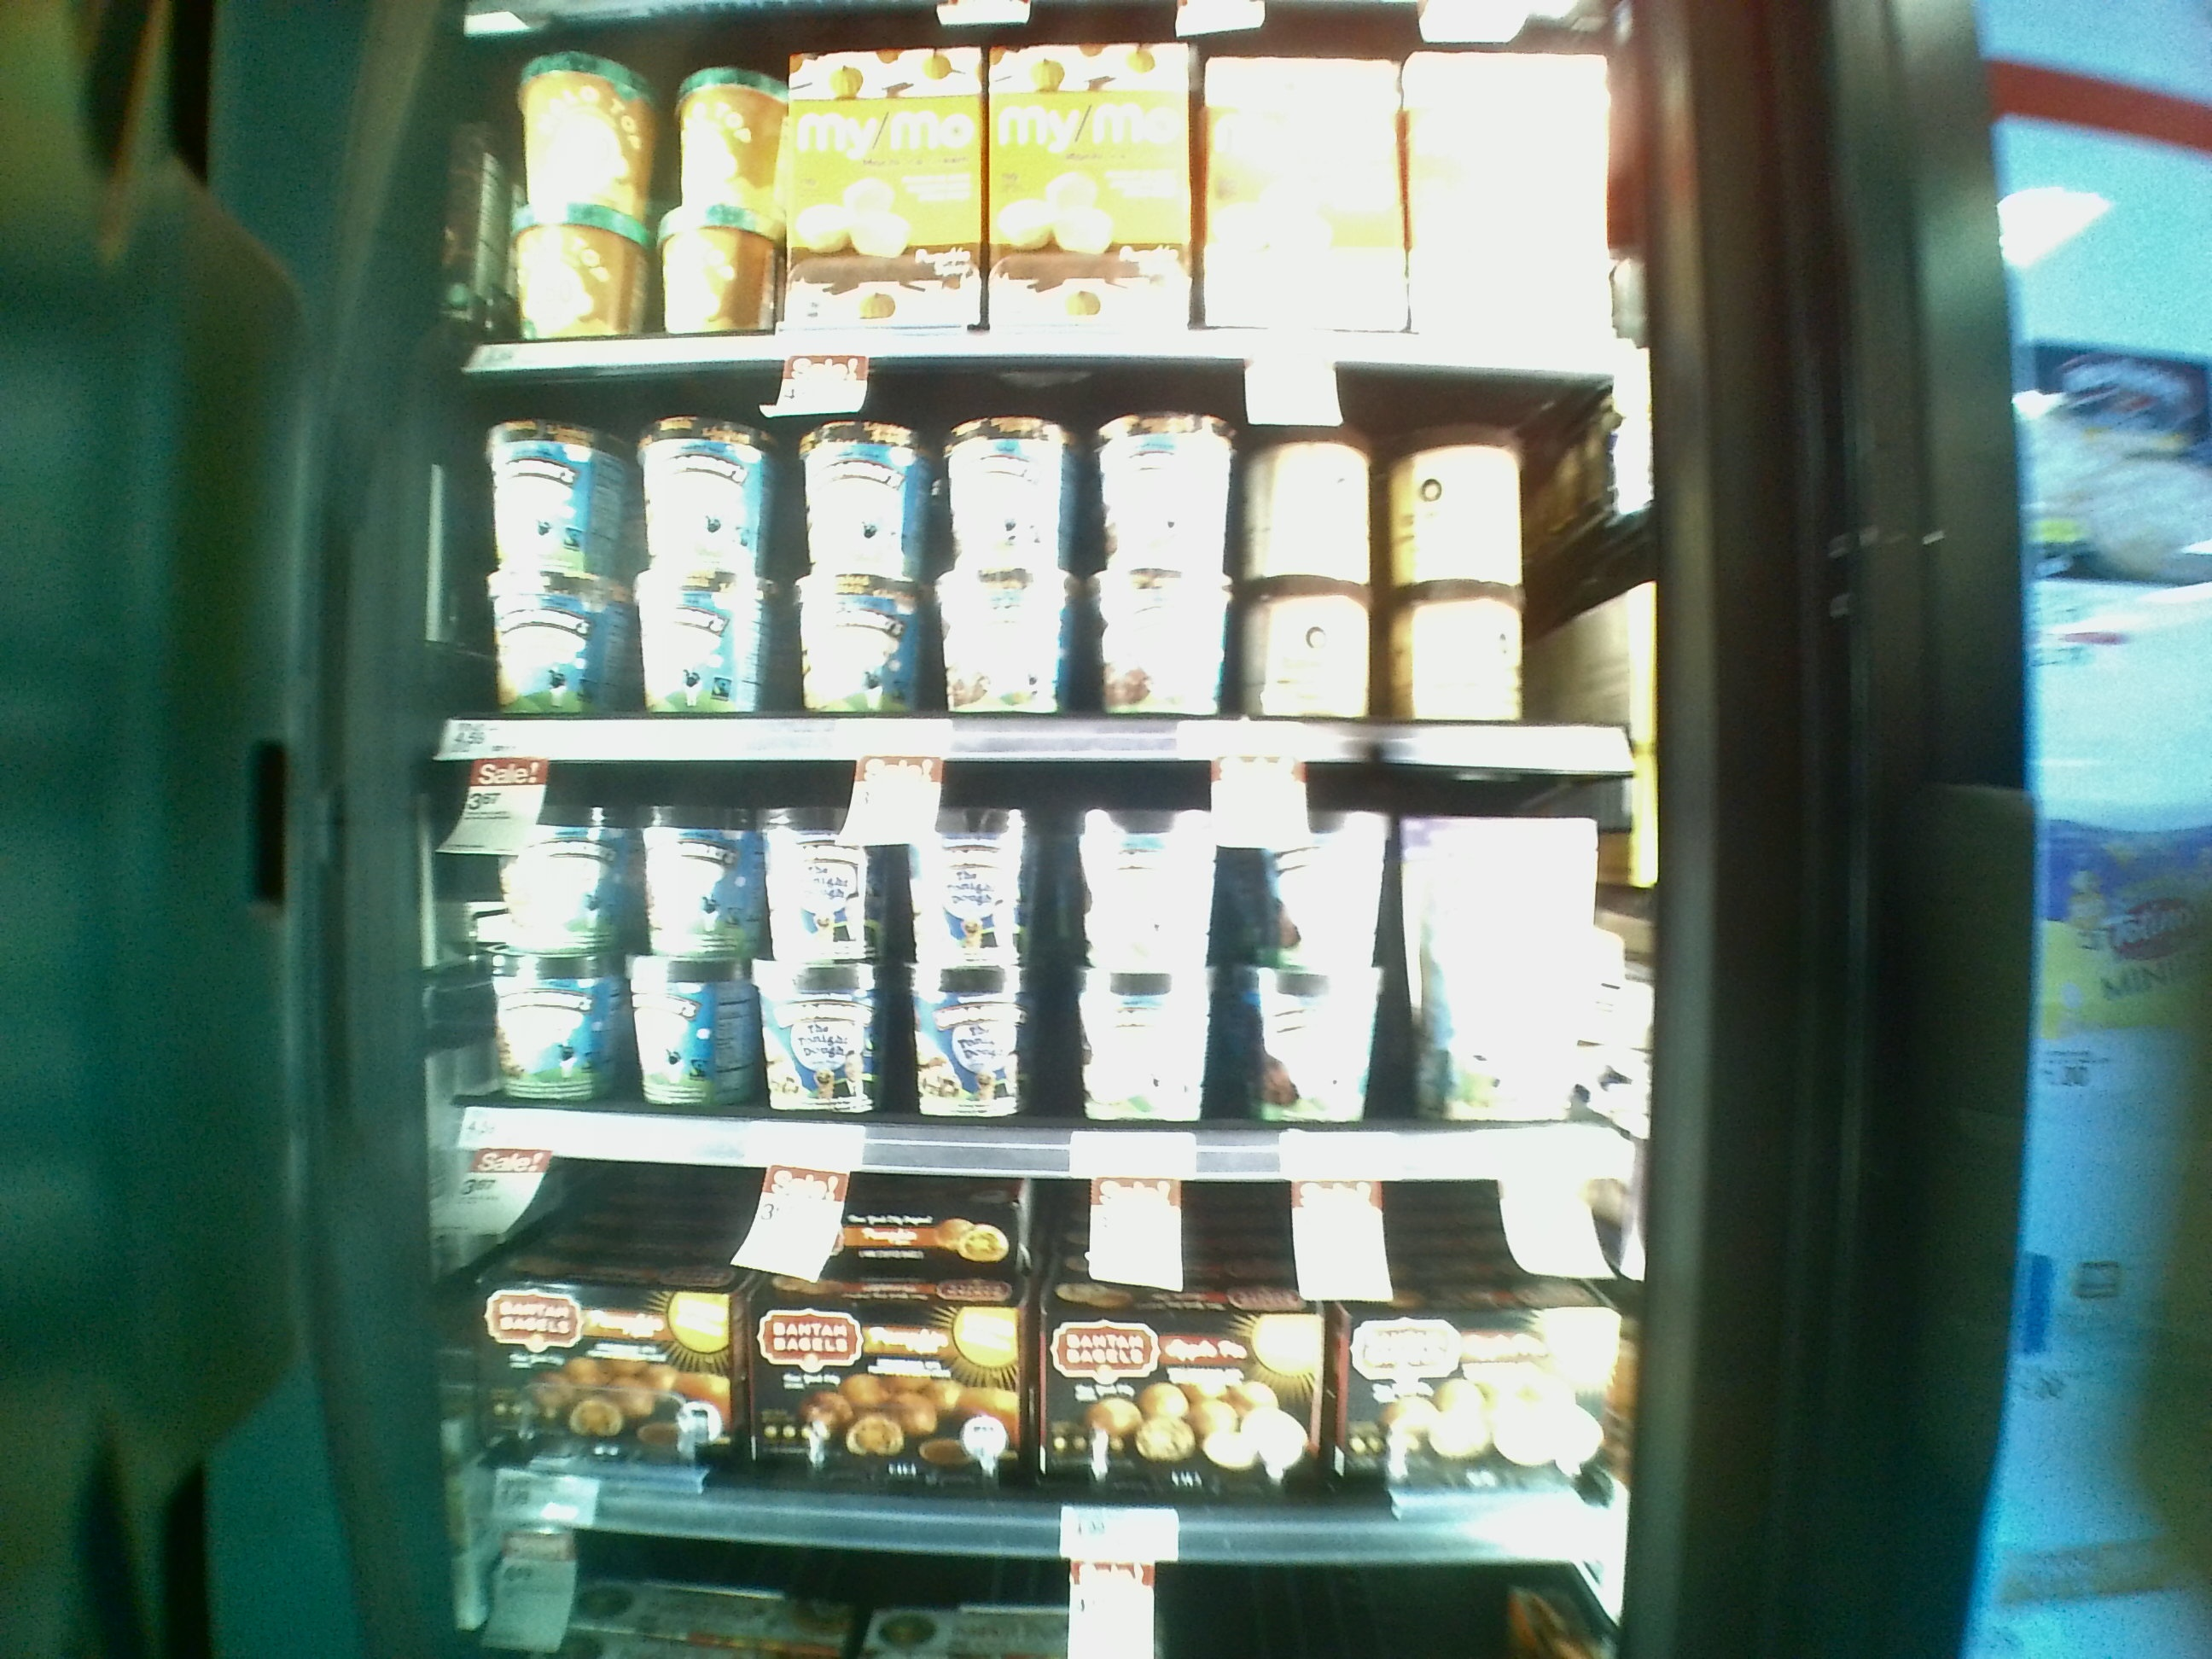shelf: (432, 1112, 1609, 1549), (435, 735, 1627, 1164), (441, 352, 1635, 760)
